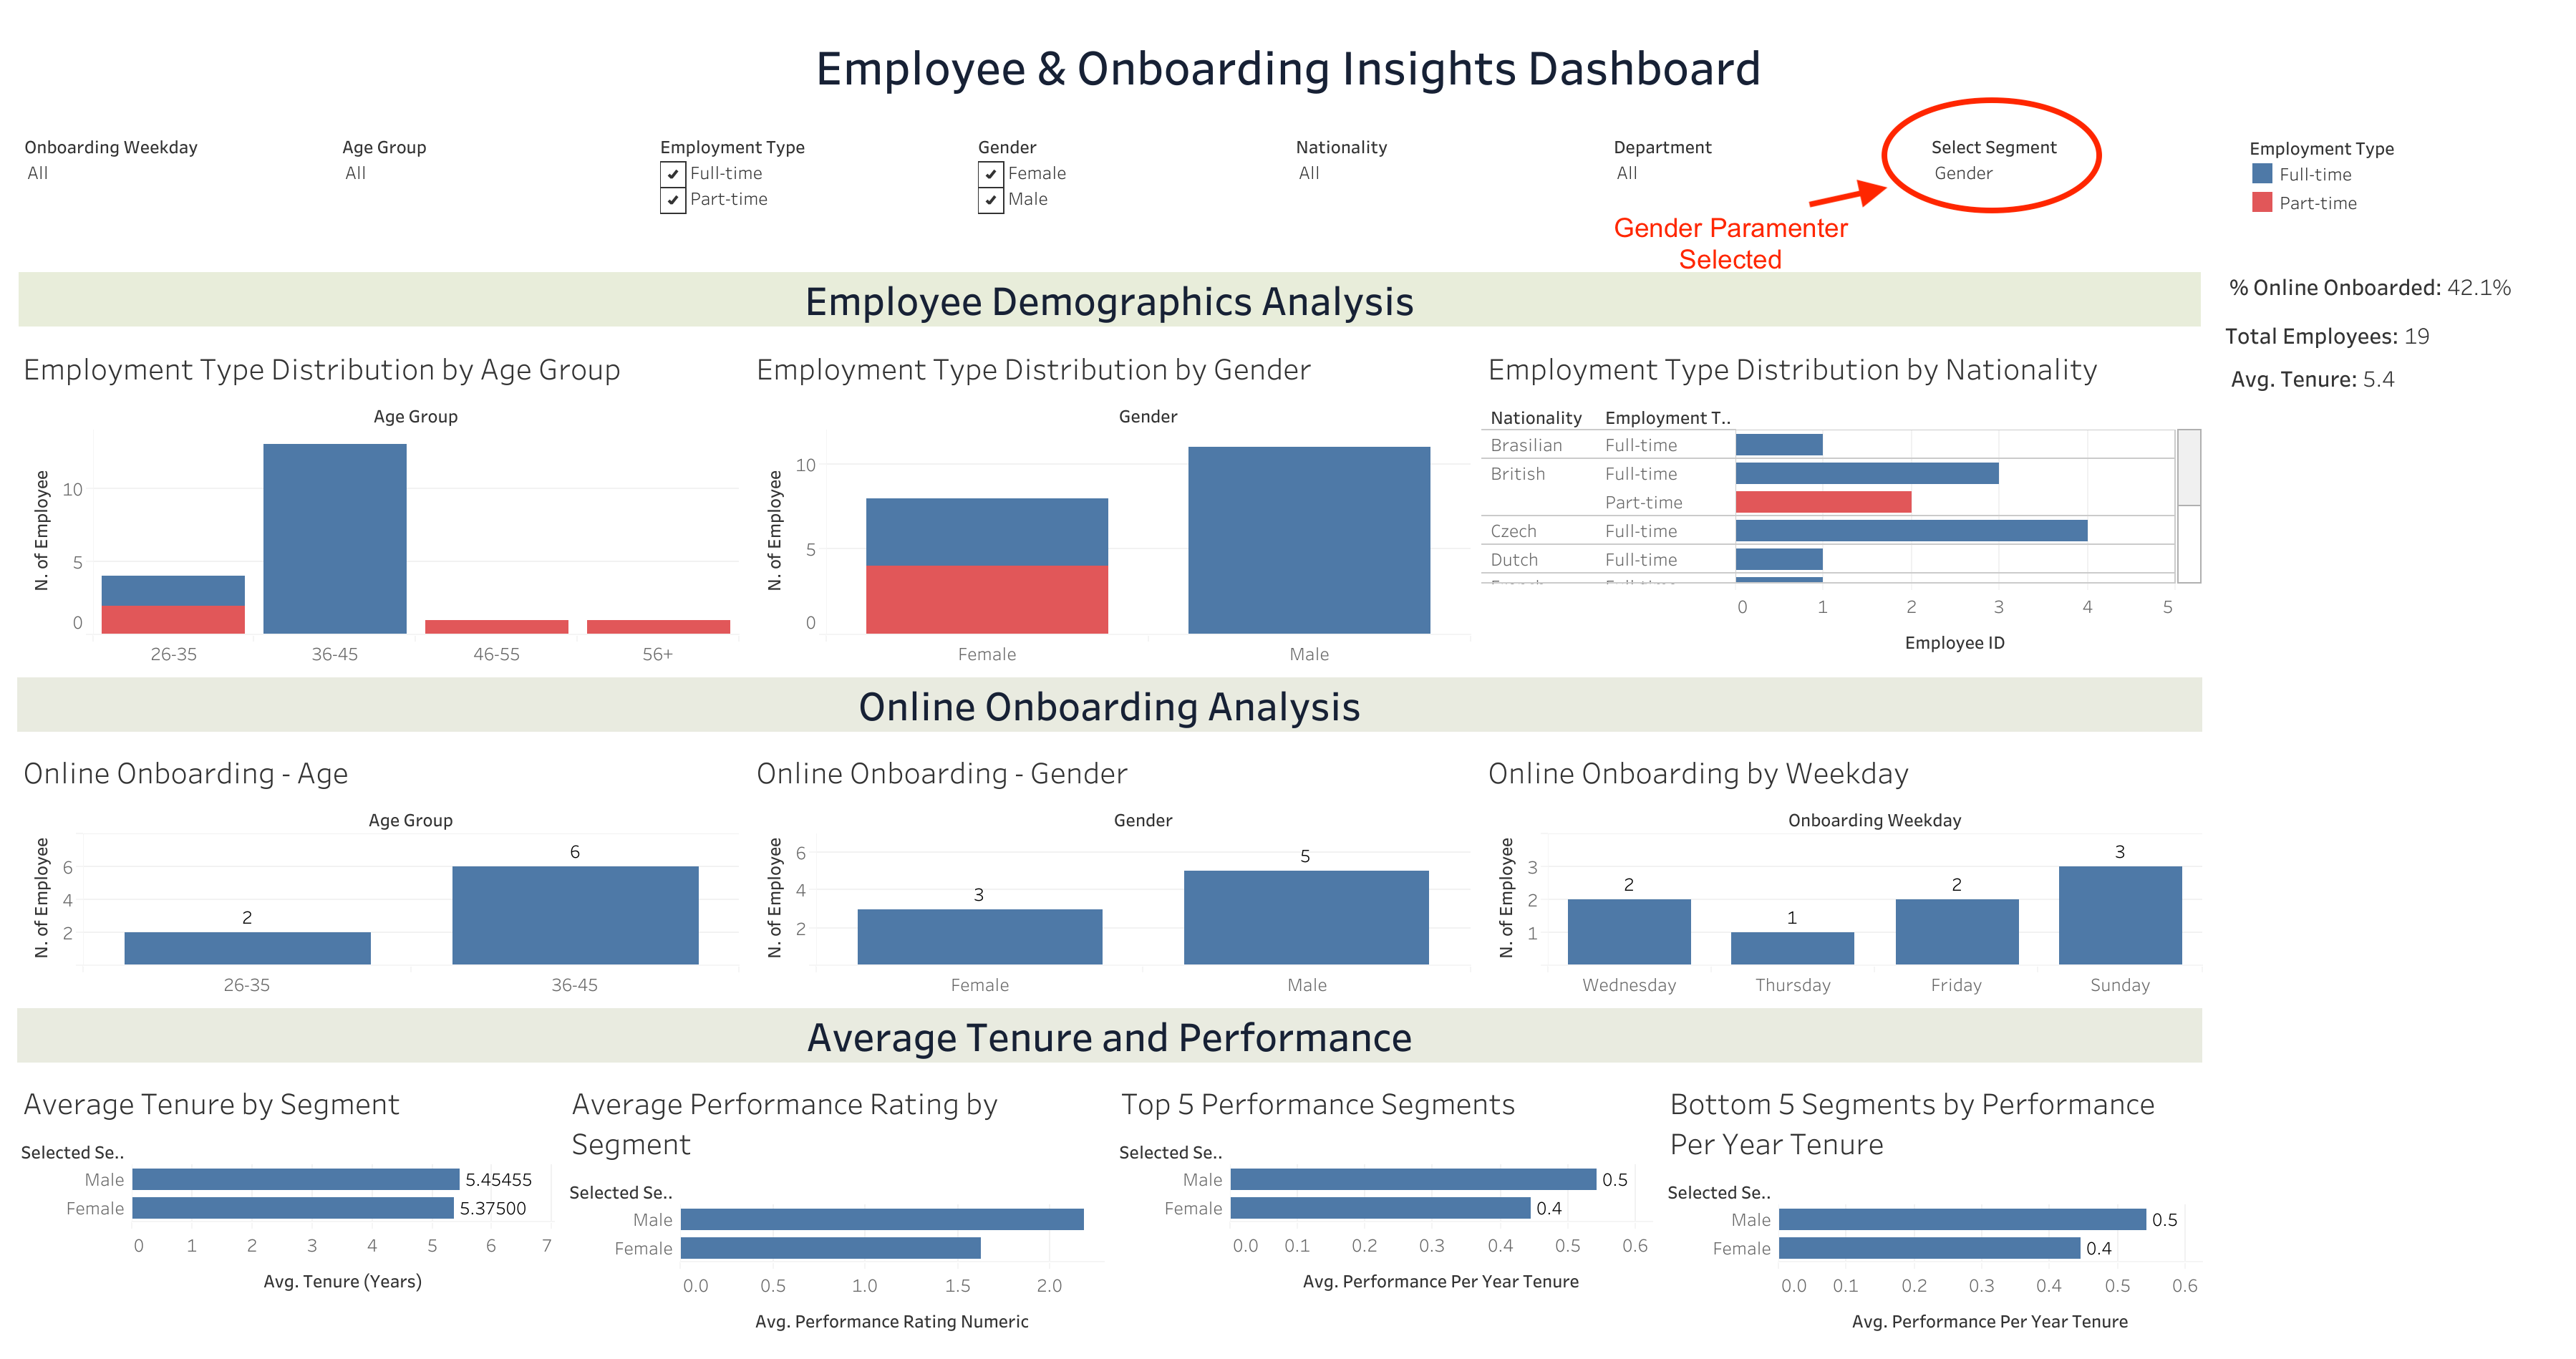

This screenshot's page, from the dashboard's own definition file:
{"tool":"tableau","page":{"name":"Dashboard 1","canvas":[1800,950],"ordinal":0},"visuals":[{"type":"text","box":[8,8,1784,75.1]},{"type":"filter","title":"% Online Onboarding","param":"[federated.0z5hum711jlxwx1byyx951mdgpax].[none:Calculation_1055547055198456:nk]","box":[13,88,222,92]},{"type":"filter","title":"% Online Onboarding","param":"[federated.0z5hum711jlxwx1byyx951mdgpax].[none:Calculation_1055547054964982:nk]","box":[235,88,222,92]},{"type":"filter","title":"% Online Onboarding","param":"[federated.0z5hum711jlxwx1byyx951mdgpax].[none:EmploymentType:nk]","box":[457,88,222,92]},{"type":"filter","title":"% Online Onboarding","param":"[federated.0z5hum711jlxwx1byyx951mdgpax].[none:Gender:nk]","box":[679,88,222,92]},{"type":"filter","title":"% Online Onboarding","param":"[federated.0z5hum711jlxwx1byyx951mdgpax].[none:Nationality:nk]","box":[901,88,222,92]},{"type":"filter","title":"% Online Onboarding","param":"[federated.0z5hum711jlxwx1byyx951mdgpax].[none:Department:nk]","box":[1123,88,222,92]},{"type":"parameter","param":"[Parameters].[Parameter 1]","box":[1345,88,221,92]},{"type":"legend","title":"Employment Type Distribution by Age Group","param":"[federated.0z5hum711jlxwx1byyx951mdgpax].[none:EmploymentType:nk]","box":[1566,88,221,92]},{"type":"text","box":[8,185,1534,48]},{"type":"worksheet","title":"% Online Onboarding","mark":"Automatic","box":[1542,185,250,34]},{"type":"worksheet","title":"Total Employees","mark":"Automatic","box":[1542,219,250,30]},{"type":"worksheet","title":"Employment Type Distribution by Age Group","mark":"Bar","rows":["EmployeeID"],"cols":["Calculation_1055547054964982"],"box":[8,233,512,216]},{"type":"worksheet","title":"Employment Type Distribution by Gender","mark":"Bar","rows":["EmployeeID"],"cols":["Gender"],"box":[520,233,511,216]},{"type":"worksheet","title":"Employment Type Distribution by Nationality","mark":"Automatic","rows":["Nationality","EmploymentType"],"cols":["EmployeeID"],"box":[1031,233,511,216]},{"type":"worksheet","title":"Avg. Company Tenure","mark":"Automatic","box":[1542,249,250,30]},{"type":"text","box":[8,449,1534,46]},{"type":"worksheet","title":"Online Onboarding - Age","mark":"Bar","rows":["EmployeeID"],"cols":["Calculation_1055547054964982"],"box":[8,495,512,185]},{"type":"worksheet","title":"Online Onboarding - Gender","mark":"Automatic","rows":["EmployeeID"],"cols":["Gender"],"box":[520,495,511,185]},{"type":"worksheet","title":"Online Onboarding by Weekday","mark":"Automatic","rows":["EmployeeID"],"cols":["Calculation_1055547055198456"],"box":[1031,495,511,185]},{"type":"text","box":[8,680,1534,46]},{"type":"worksheet","title":"Average Tenure by Segment","mark":"Automatic","rows":["Calculation_1055547095777293"],"cols":["Calculation_1055547055026423"],"box":[8,726,383.5,216]},{"type":"worksheet","title":"Average Performance Rating by Segment","mark":"Automatic","rows":["Calculation_1055547095777293"],"cols":["Calculation_1055547055374585"],"box":[391.5,726,383.5,216]},{"type":"worksheet","title":"Top 5 Performance Segments","mark":"Automatic","rows":["Calculation_1055547095777293"],"cols":["Calculation_1055547056521466"],"box":[775,726,383.5,216]},{"type":"worksheet","title":"Bottom 5 Performance Segments (2)","mark":"Automatic","rows":["Calculation_1055547095777293"],"cols":["Calculation_1055547056521466"],"box":[1158.5,726,383.5,216]}]}

Visuals, with their boxes in screenshot pixels (x1, y1, x2, y2), scaled from the page's 1800x950 canvas onto the 2576x1359 screenshot:
text: (left=11, top=11, right=2565, bottom=119)
"% Online Onboarding" filter: (left=19, top=126, right=336, bottom=258)
"% Online Onboarding" filter: (left=336, top=126, right=654, bottom=258)
"% Online Onboarding" filter: (left=654, top=126, right=972, bottom=258)
"% Online Onboarding" filter: (left=972, top=126, right=1289, bottom=258)
"% Online Onboarding" filter: (left=1289, top=126, right=1607, bottom=258)
"% Online Onboarding" filter: (left=1607, top=126, right=1925, bottom=258)
parameter: (left=1925, top=126, right=2241, bottom=258)
"Employment Type Distribution by Age Group" legend: (left=2241, top=126, right=2557, bottom=258)
text: (left=11, top=265, right=2207, bottom=334)
"% Online Onboarding" worksheet: (left=2207, top=265, right=2565, bottom=314)
"Total Employees" worksheet: (left=2207, top=314, right=2565, bottom=356)
"Employment Type Distribution by Age Group" worksheet (Bar marks): (left=11, top=334, right=744, bottom=642)
"Employment Type Distribution by Gender" worksheet (Bar marks): (left=744, top=334, right=1476, bottom=642)
"Employment Type Distribution by Nationality" worksheet: (left=1476, top=334, right=2207, bottom=642)
"Avg. Company Tenure" worksheet: (left=2207, top=356, right=2565, bottom=399)
text: (left=11, top=642, right=2207, bottom=708)
"Online Onboarding - Age" worksheet (Bar marks): (left=11, top=708, right=744, bottom=973)
"Online Onboarding - Gender" worksheet: (left=744, top=708, right=1476, bottom=973)
"Online Onboarding by Weekday" worksheet: (left=1476, top=708, right=2207, bottom=973)
text: (left=11, top=973, right=2207, bottom=1038)
"Average Tenure by Segment" worksheet: (left=11, top=1038, right=561, bottom=1348)
"Average Performance Rating by Segment" worksheet: (left=561, top=1038, right=1109, bottom=1348)
"Top 5 Performance Segments" worksheet: (left=1109, top=1038, right=1658, bottom=1348)
"Bottom 5 Performance Segments (2)" worksheet: (left=1658, top=1038, right=2207, bottom=1348)
